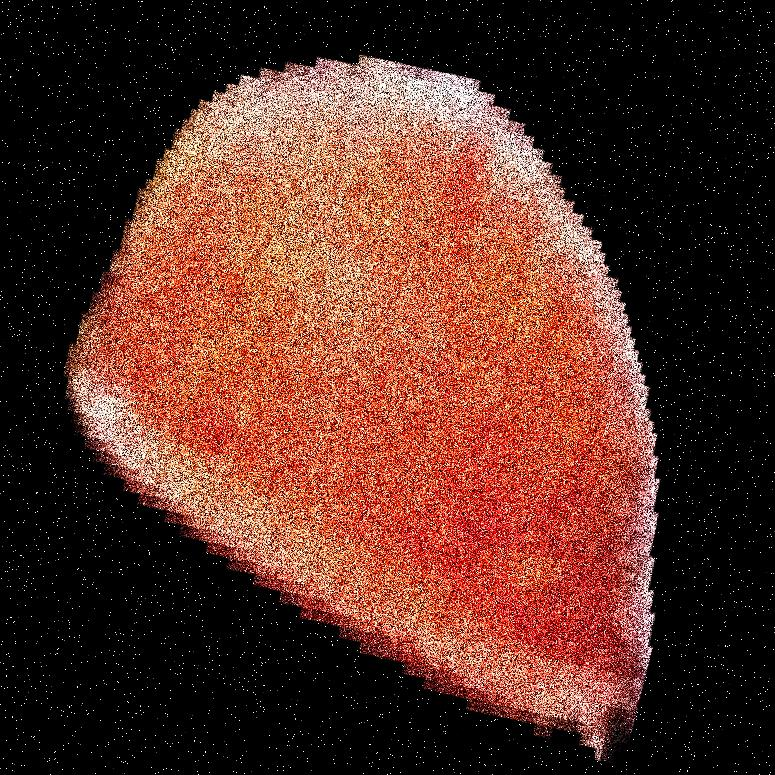Capacete: (235, 0, 774, 774)
